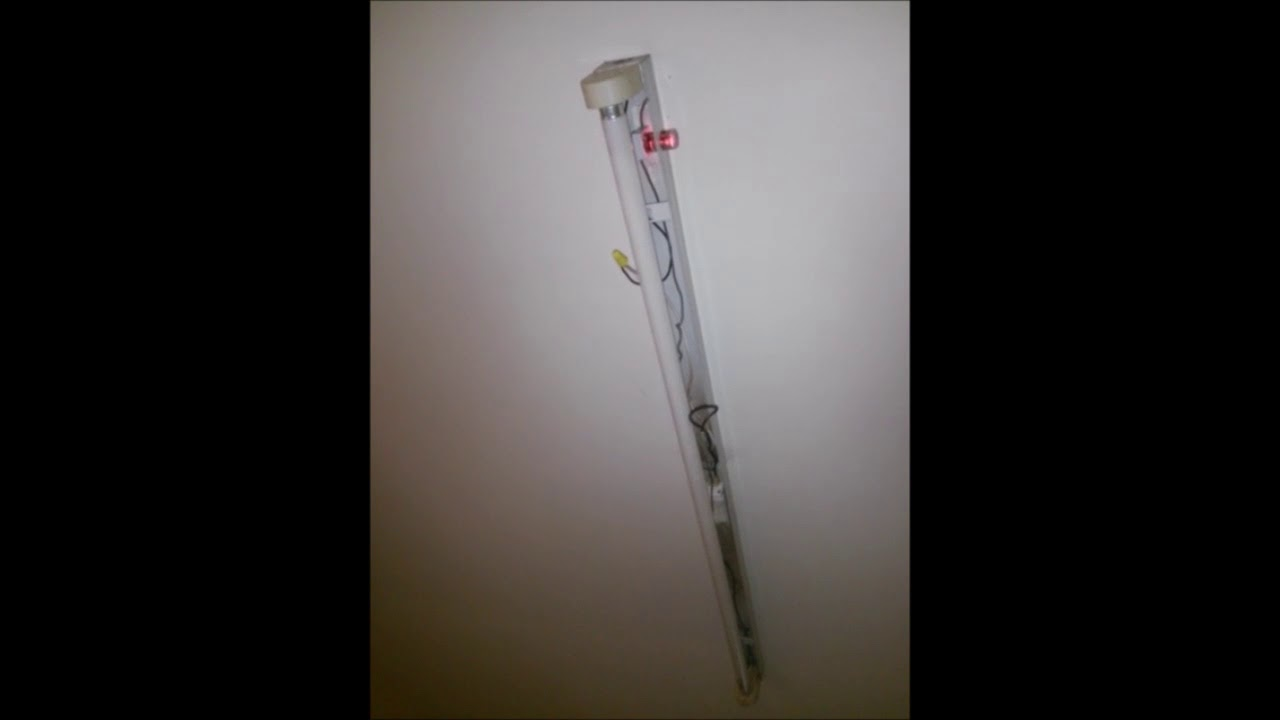Light_bulb: (591, 87, 769, 708)
